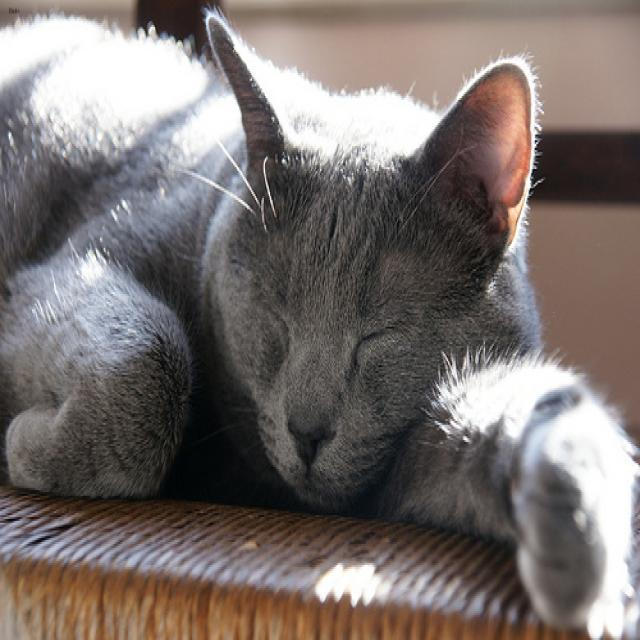Russian_Blue: (204, 10, 531, 508)
